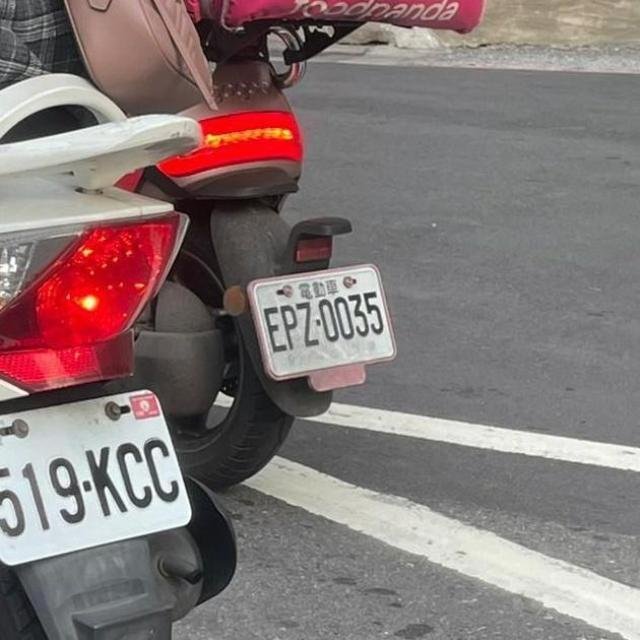W: (0, 374, 202, 581), (238, 252, 408, 387)
